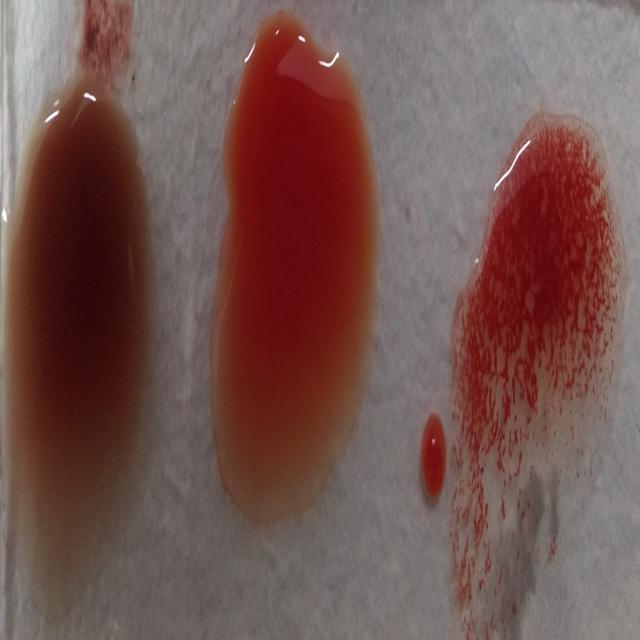D: (454, 121, 612, 617)
